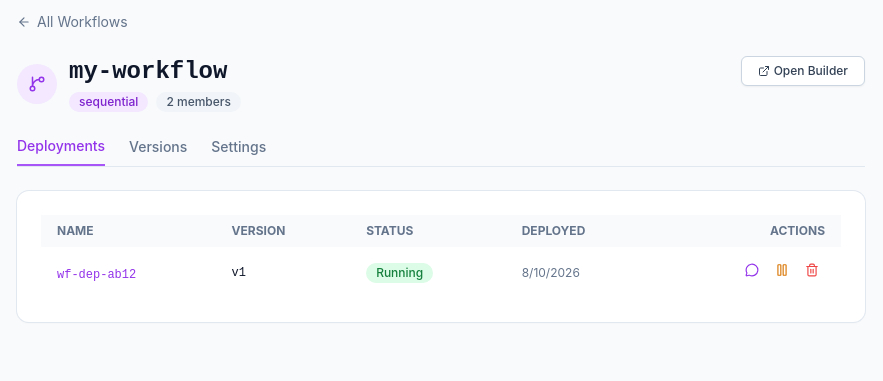
Test: WorkflowDetailPage › switches to versions tab
Check: the heading "my-workflow" is shown, box [69,56,241,88]
Click the button "versions" at (158, 151), box [129,136,187,166]
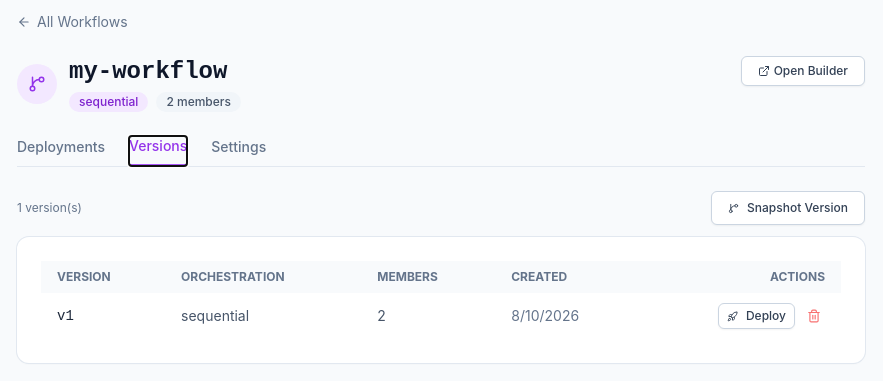
Check: the text "v1" is shown, box [41,293,165,339]
